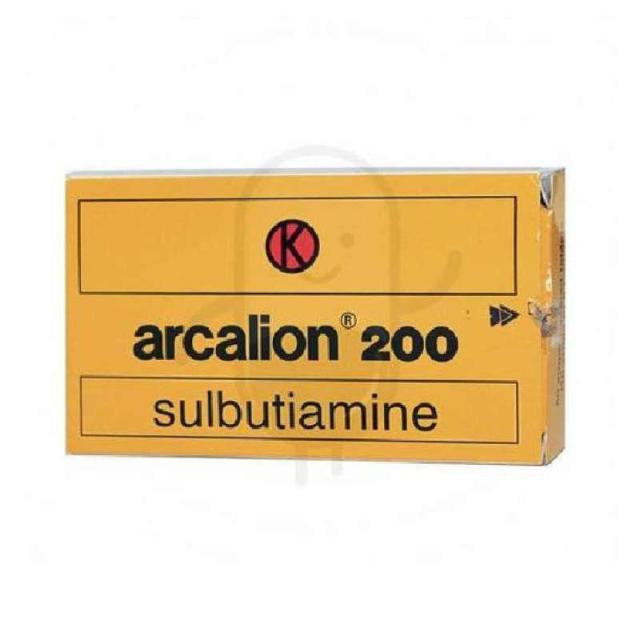drug-name: (129, 311, 461, 367)
